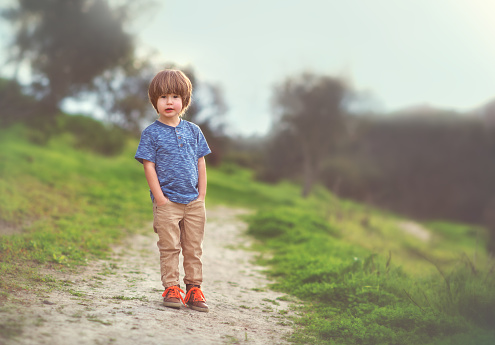em pe: (130, 67, 215, 312)
